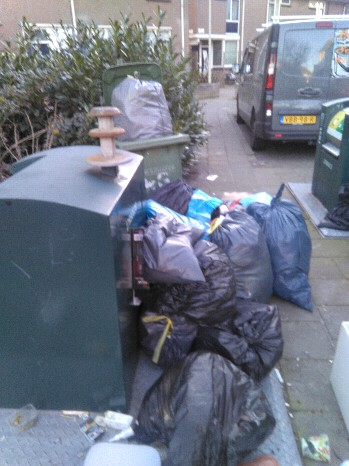Container: (0, 138, 133, 411)
Rest: (162, 363, 260, 449), (245, 195, 315, 289), (154, 184, 227, 268), (220, 291, 296, 367), (220, 178, 261, 299), (170, 210, 228, 295), (112, 76, 182, 146), (146, 287, 207, 347)
